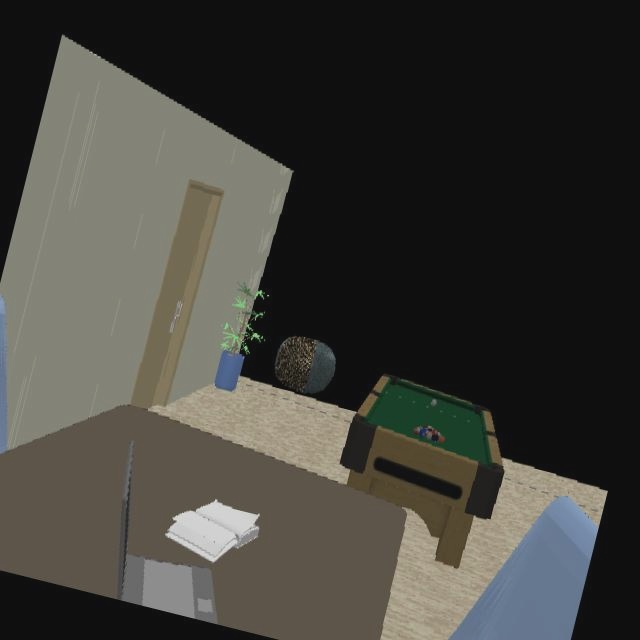book: (159, 499, 259, 569)
chair: (443, 495, 598, 640)
laptop: (110, 440, 218, 623)
table: (0, 404, 406, 640)
